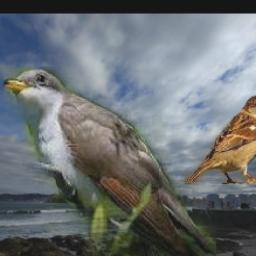Cuckoo: (4, 68, 216, 256)
Sparrow: (184, 95, 256, 185)
